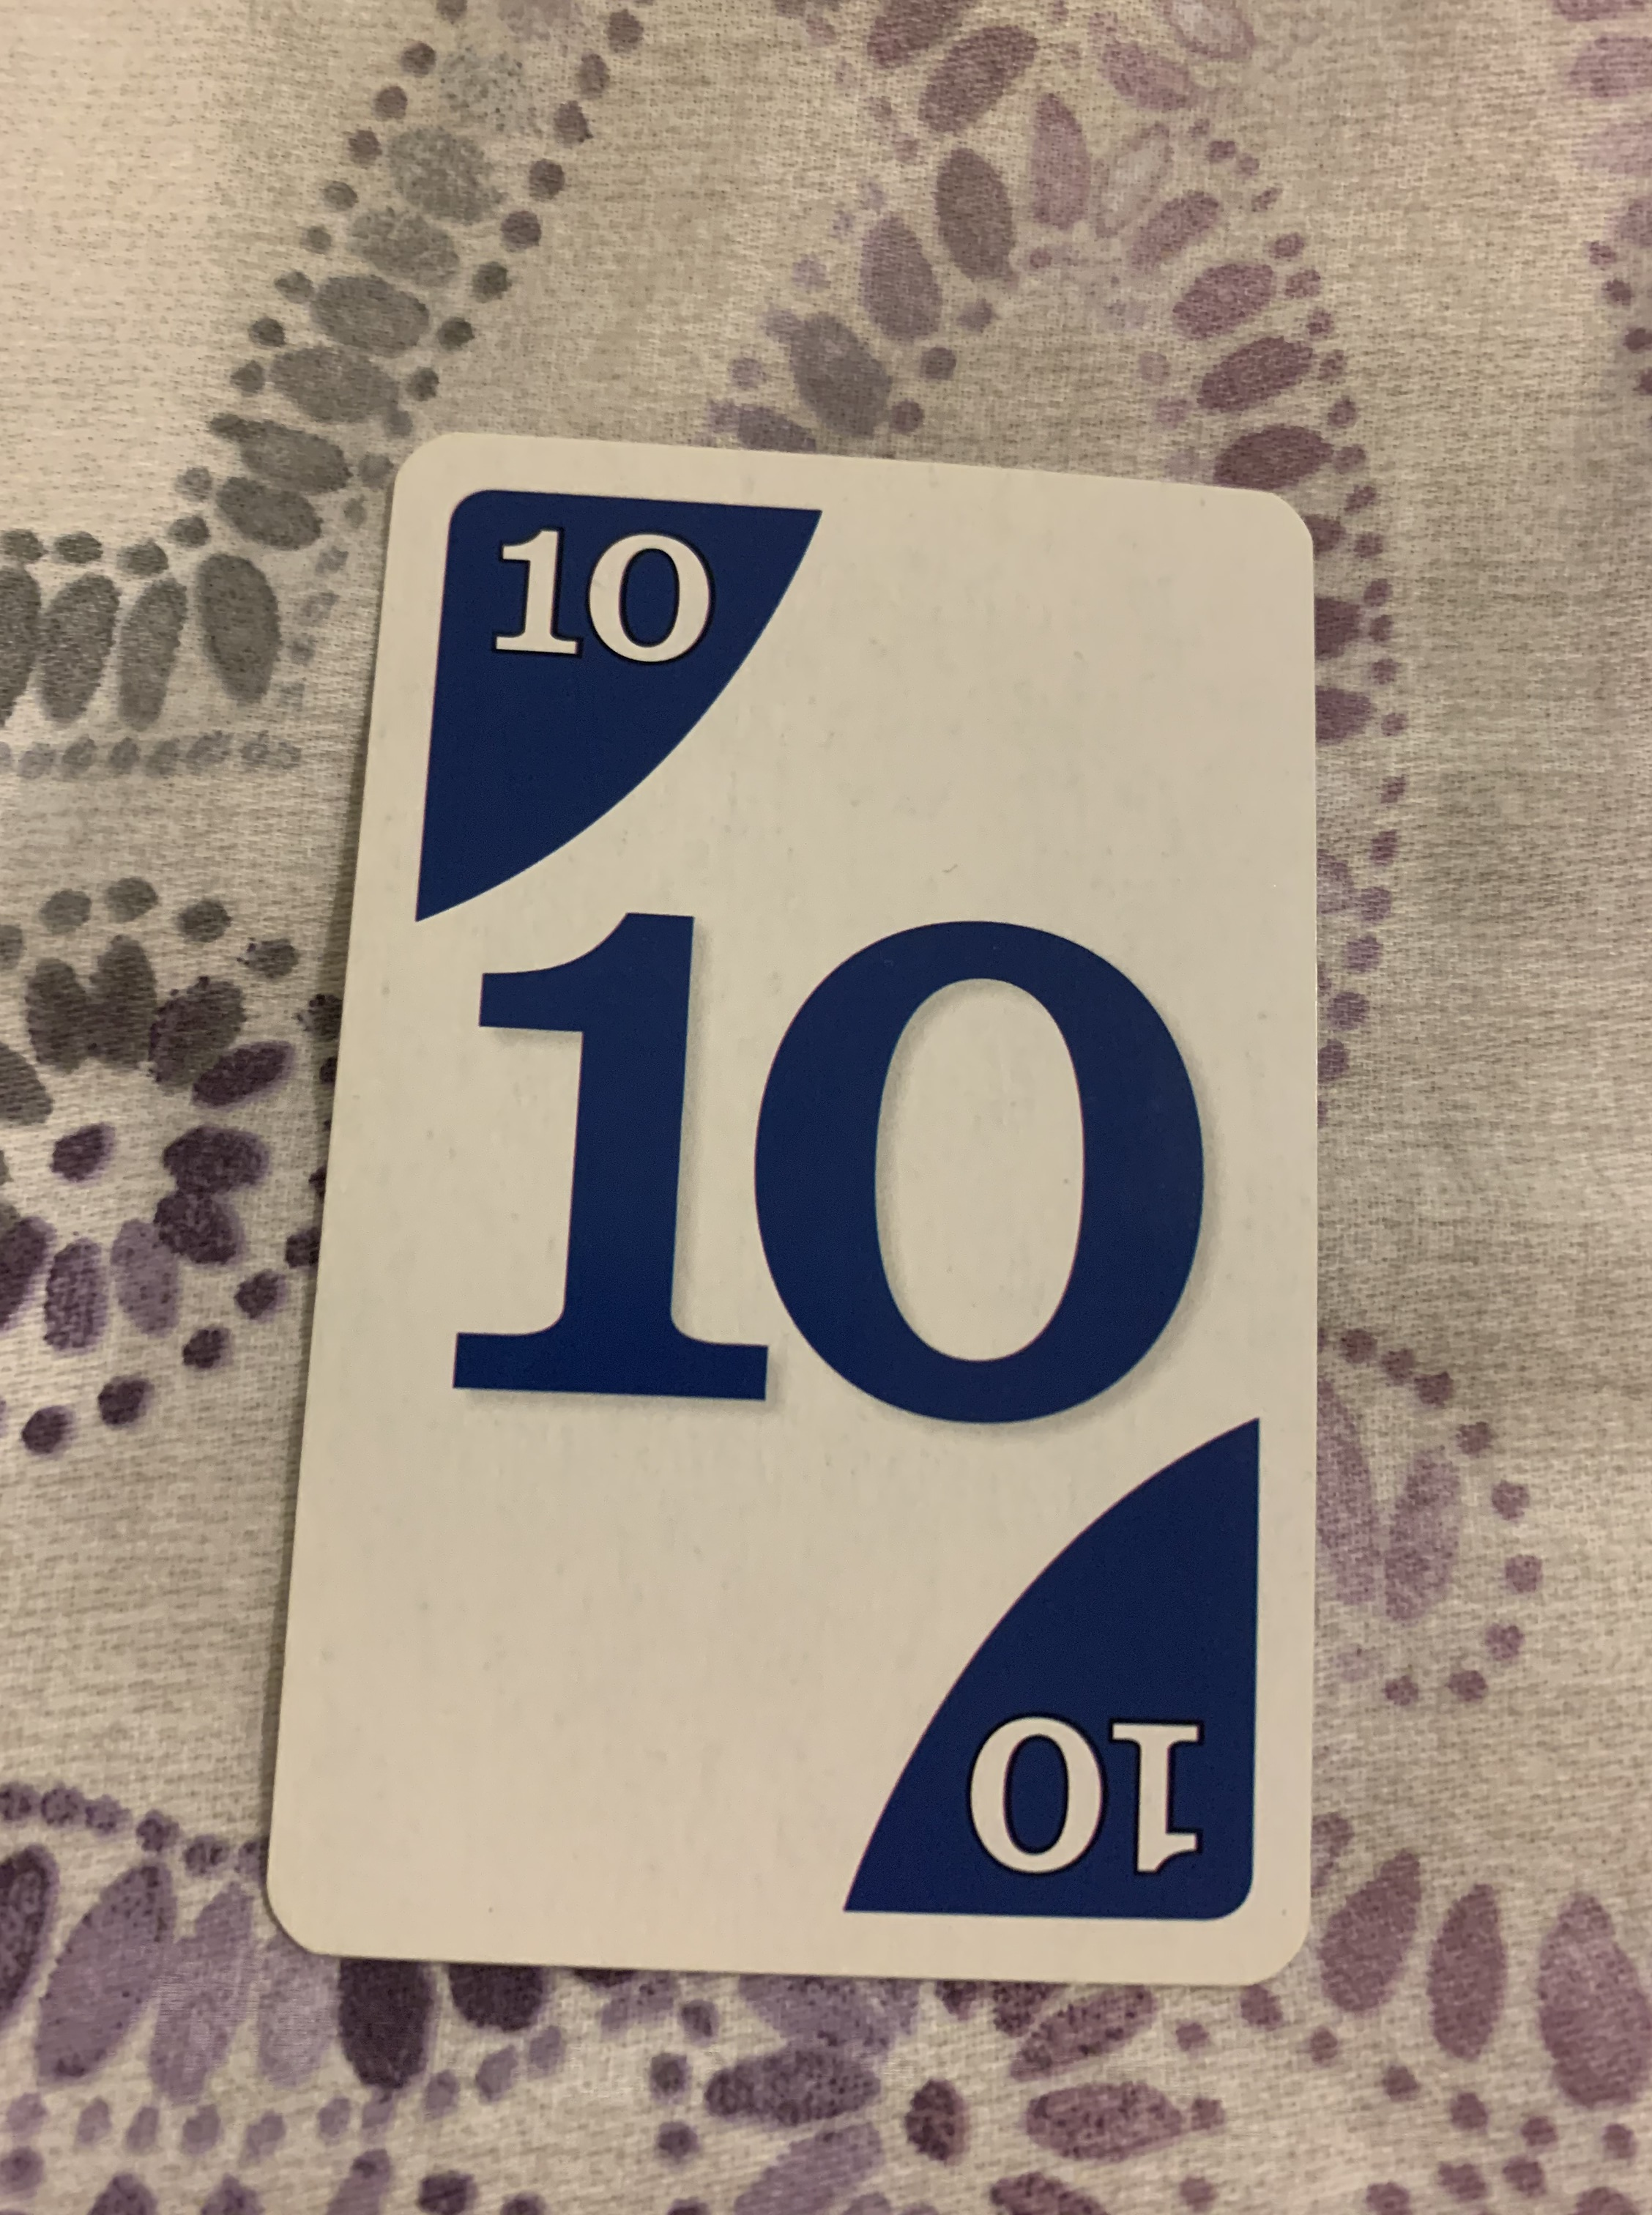ten: (259, 432, 1317, 1993)
